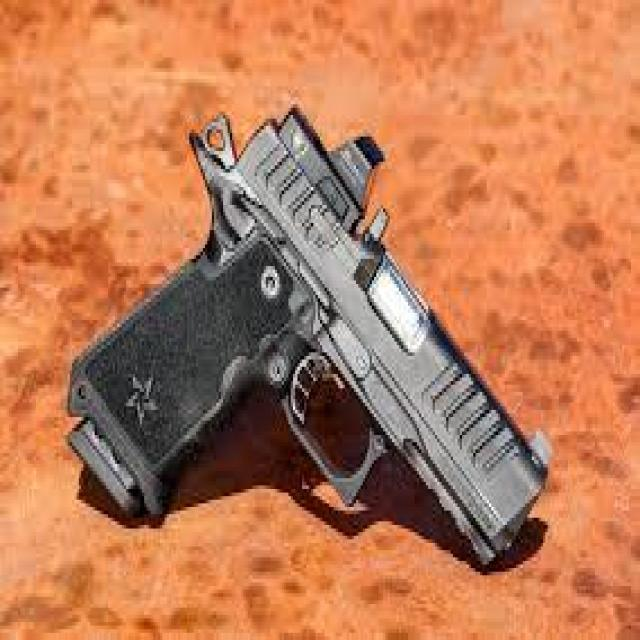gun: (65, 108, 553, 568)
